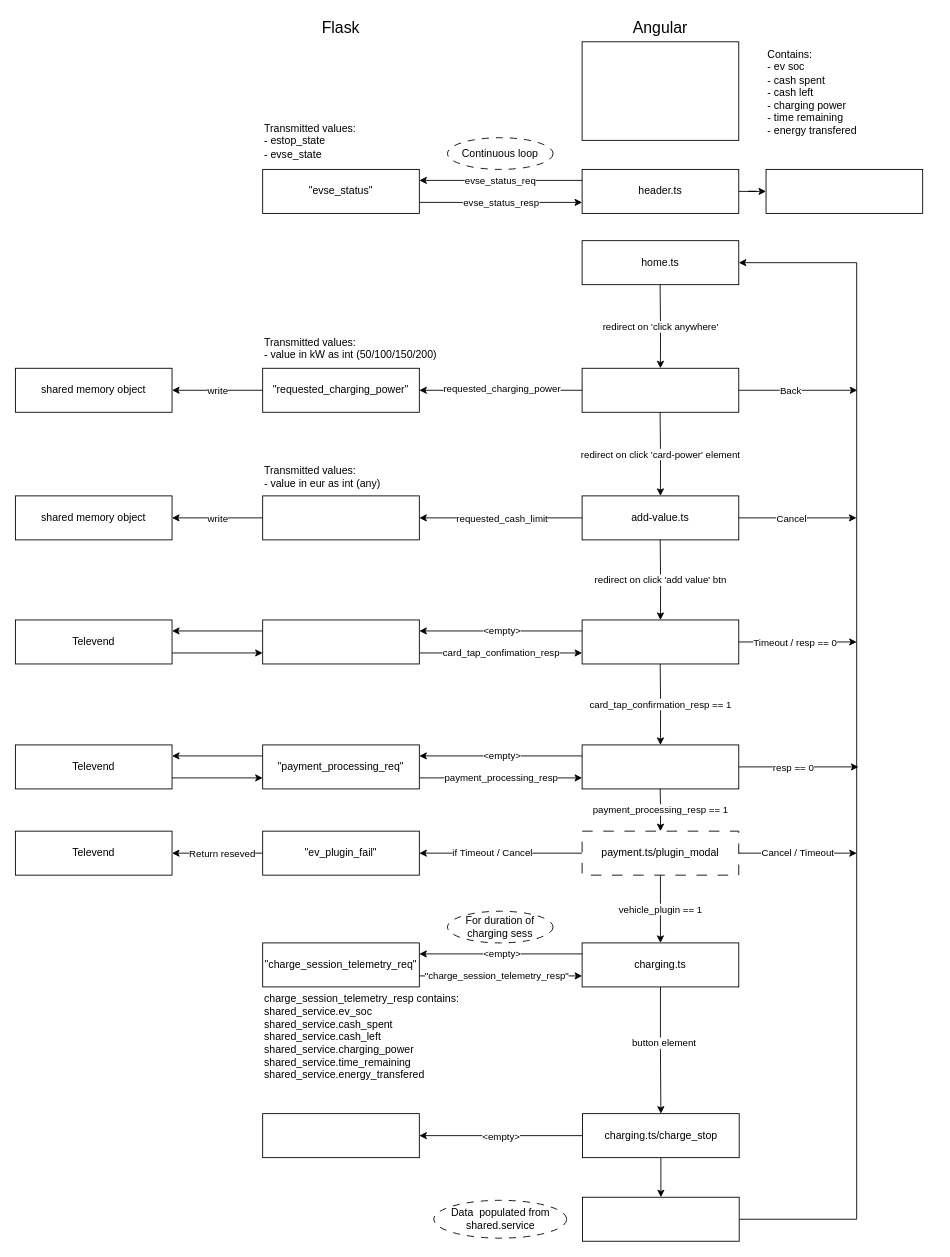
Image size: 950x1257. Some labels were removed from this diagram. The box of each missing label's shape, as (x1, y1, x2, y2) in pixels:
"card_tap_confirmation_req": (262, 619, 419, 664)
"charge_stop_req": (262, 1113, 419, 1158)
"requested_cash_limit": (262, 495, 419, 540)
payment.ts/card_tap_confirm: (581, 619, 739, 664)
payment.ts/payment_processing: (581, 744, 739, 789)
pulls estop active / service unavailable modals if EVSE errors out: (765, 169, 923, 213)
select_power.ts: (581, 367, 739, 412)
shared.service.ts: (581, 41, 739, 140)
summary.ts: (582, 1196, 739, 1241)
